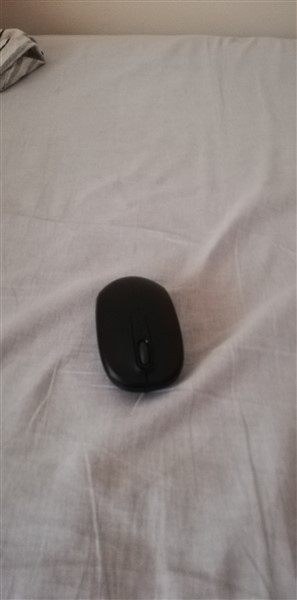mouse: (88, 270, 199, 397)
